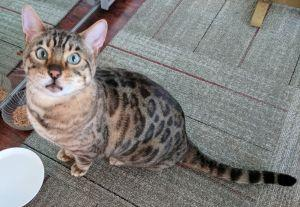bengal: (14, 1, 112, 104)
